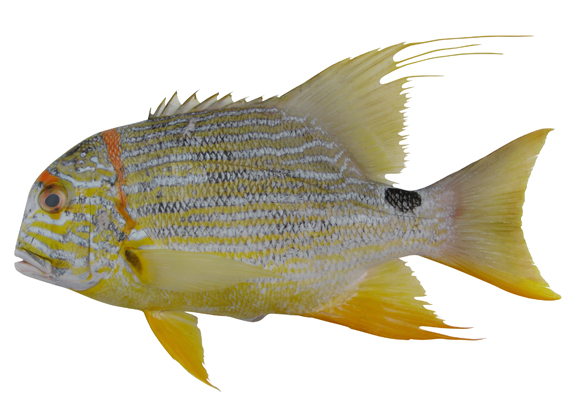fish: (13, 34, 563, 393)
